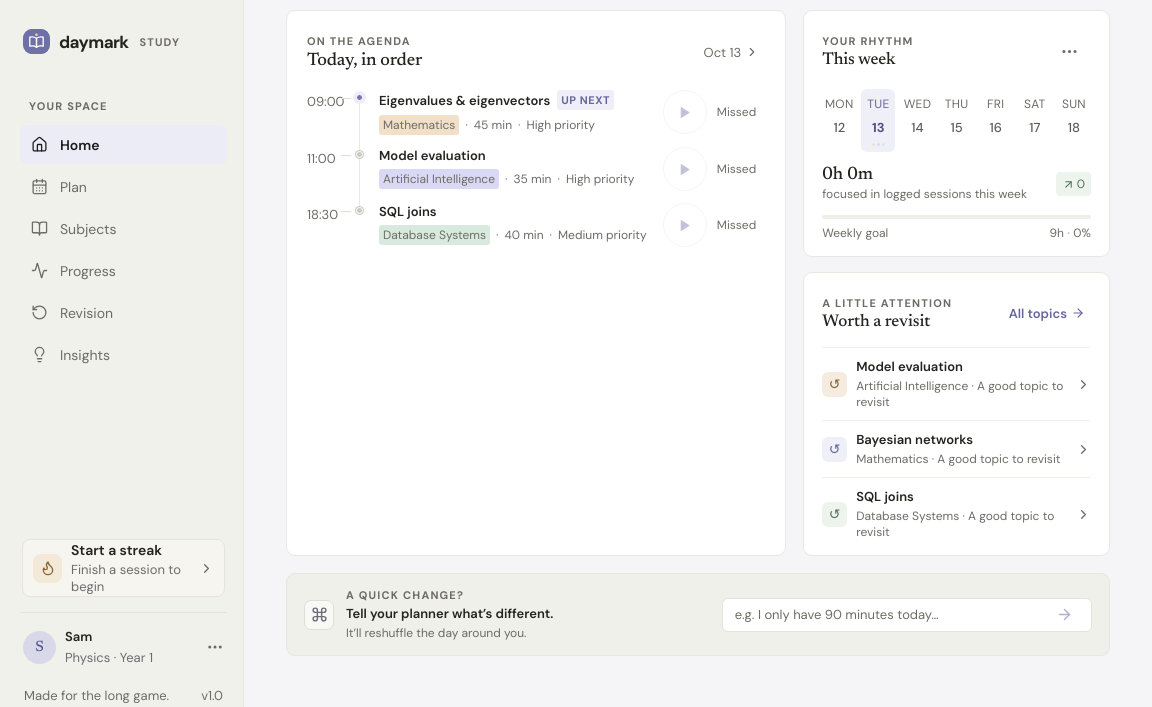
Quick change › proposes a plan that fits the available time and applies it on accept
This screenshot has width=1152, height=707.
(page scrolled)
In the field named "tell your planner": (887, 615) [733,605,1042,624], type "I only have 60 minutes today"
Then press Enter
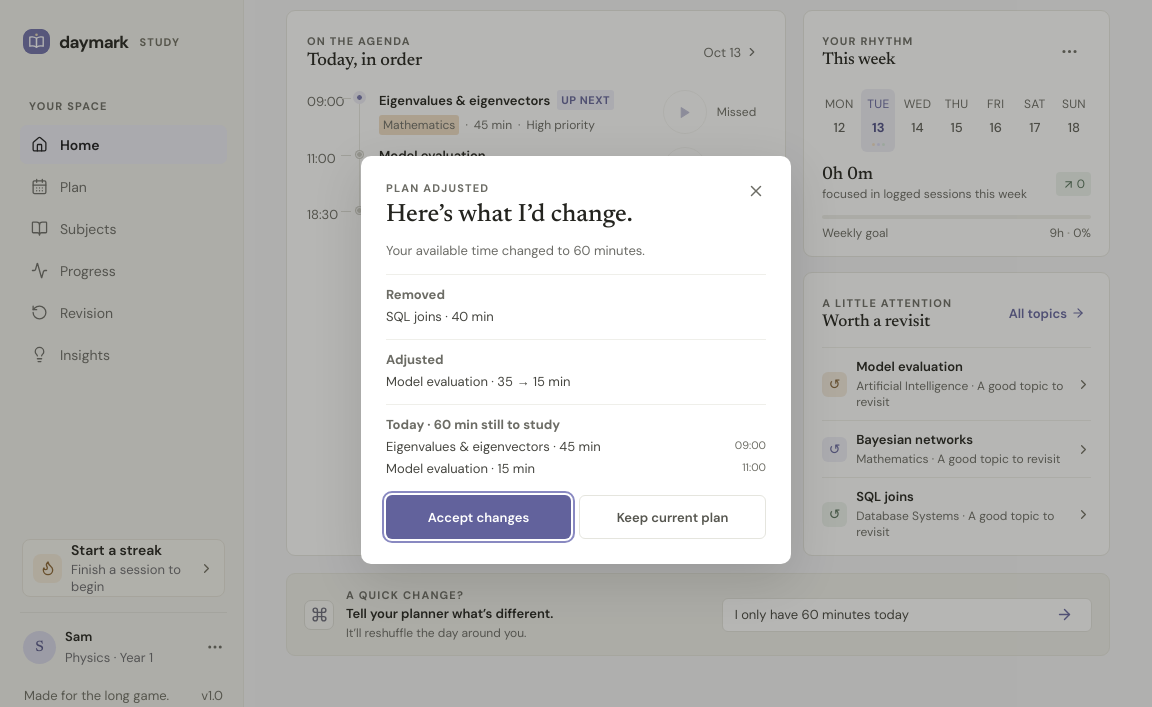
Result: the text "SQL joins · 40 min" is shown at [386,308,494,325]
Result: the text "Model evaluation · 35 → 15 min" is shown at [386,373,570,390]
Click the button "Accept changes": (478, 517) [386,495,571,539]
(page scrolled)
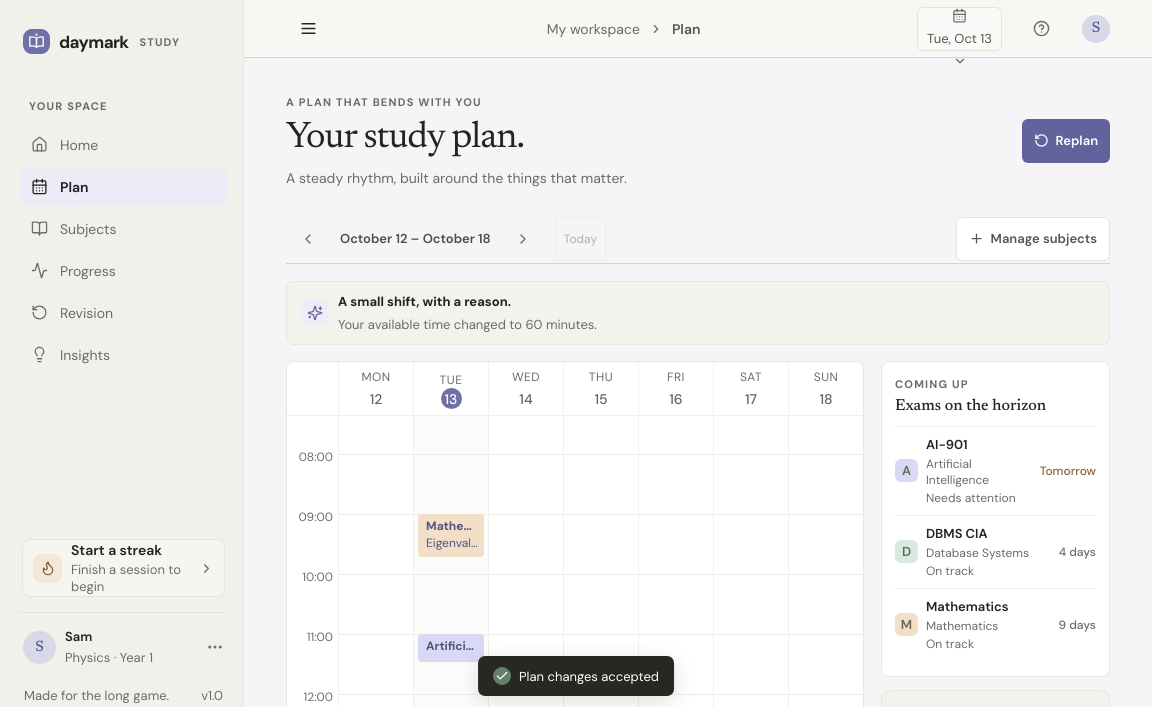
Result: the dialog is gone
Result: the heading "Your study plan." is shown at [286,120,524,157]
